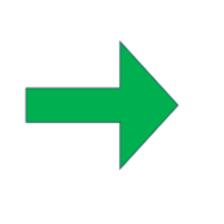right: (18, 33, 184, 175)
